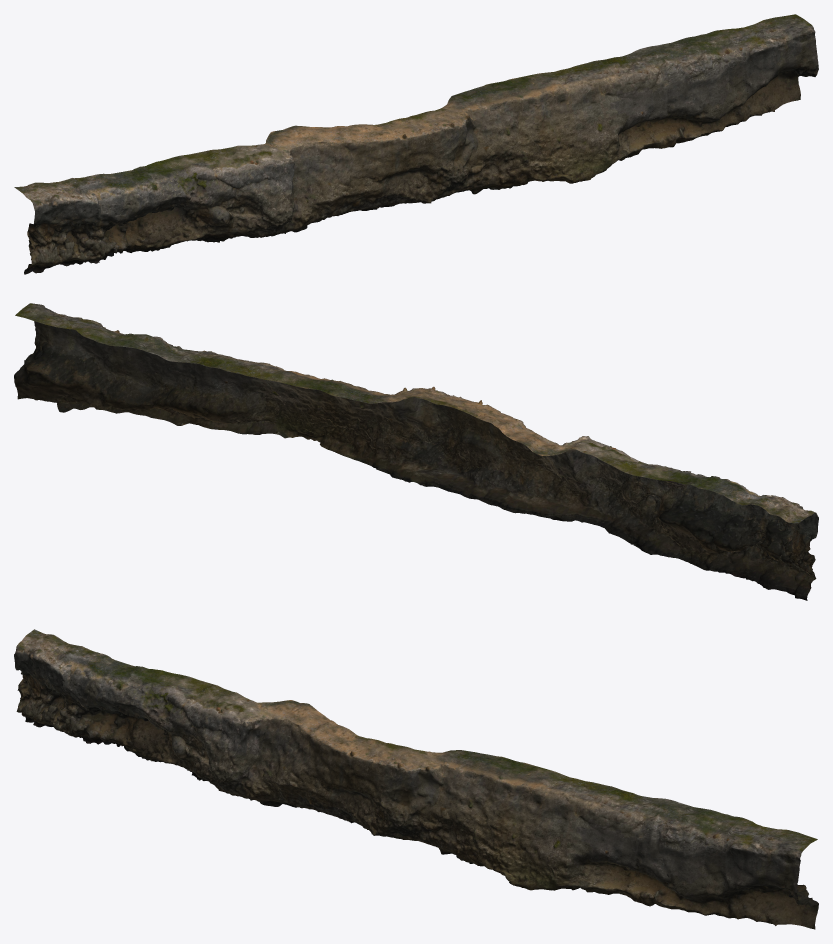
Rendered from cliff.glb.
The picture shows the model from 3 angles, top to bottom: view 1: azimuth 30°, elevation 25°; view 2: azimuth 150°, elevation 25°; view 3: azimuth 330°, elevation 25°; orthographic projection. The views are drawn at different scales.
Parts seen in each view (by area): view 1: coastal_cliff_01_LOD0; view 2: coastal_cliff_01_LOD0; view 3: coastal_cliff_01_LOD0.
Boxes of the visible parts, x1,y1,x2,y2 form: coastal_cliff_01_LOD0: (14, 14, 818, 274); coastal_cliff_01_LOD0: (14, 303, 818, 600); coastal_cliff_01_LOD0: (14, 629, 818, 929).
Size of what is drawn, in the model's own units: 91.98 by 10.32 by 10.96.
Materials: 1 (1 with a texture image).
